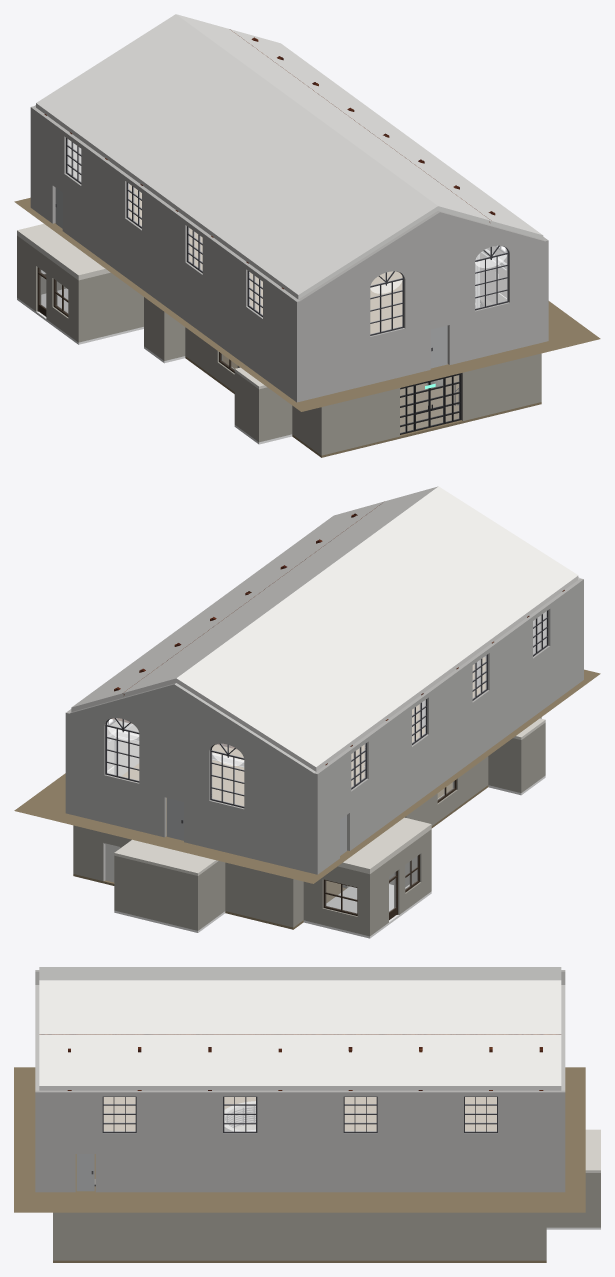
File: booth.glb
3 renders of one model, top to bottom at view 1: azimuth 30°, elevation 25°; view 2: azimuth 150°, elevation 25°; view 3: azimuth 270°, elevation 25°, orthographic.
Visible parts, largest first — view 1: ES3_A_Ceiling, ES3_A_GableS, ES3_A_WallSlabW, ES_A_Ceiling, ES_A_WallS_L, ES_A_WallS_R, ES_A_Ax_S, ES_A_Floor, ES_A_Ax_Ceil, ES_A_Gz_Glass, ES_A_N1_Back, ES3_C_GWS1_g (+11 smaller); view 2: ES3_A_Ceiling, ES3_A_GableN, ES3_A_WallSlabW, ES_A_Ceiling, ES_A_Vest_N, ES_A_WallN_1, ES_A_Ax_Ceil, ES_A_Vest_Ceil, ES_A_WallN_3, ES_A_N1_Back, ES3_C_GWN0_g, ES3_C_GWN1_g (+12 smaller); view 3: ES3_A_Ceiling, ES3_A_WallSlabE, ES_A_WallE_2, ES_A_Ceiling, ES_A_WallE_1, ES_A_Floor, ES_A_Vest_E, ES3_C_SWE0_g, ES3_C_SWE2_g, ES3_C_SWE3_g, ES3_C_SWE1_g, ES3_C_DoorE (+4 smaller).
Part boxes in pixels (x1,y1,x2,y2): ES3_A_Ceiling: (36,14,543,299); ES3_A_GableS: (298,210,545,401); ES3_A_WallSlabW: (30,106,300,402); ES_A_Ceiling: (14,185,600,411); ES_A_WallS_L: (318,388,399,455); ES_A_WallS_R: (461,353,541,420); ES_A_Ax_S: (75,272,143,342); ES_A_Floor: (185,355,541,457); ES_A_Ax_Ceil: (17,224,110,280); ES_A_Gz_Glass: (400,375,459,433); ES_A_N1_Back: (234,372,262,442); ES3_C_GWS1_g: (475,254,507,308); ES3_A_Ceiling: (71,486,578,771); ES3_A_GableN: (69,683,315,873); ES3_A_WallSlabW: (314,578,583,874); ES_A_Ceiling: (14,657,600,883); ES_A_Vest_N: (114,855,199,930); ES_A_WallN_1: (225,862,296,927); ES_A_Ax_Ceil: (338,817,431,874); ES_A_Vest_Ceil: (114,839,218,875); ES_A_WallN_3: (73,825,103,880); ES_A_N1_Back: (518,722,545,792); ES3_C_GWN0_g: (211,752,244,806); ES3_C_GWN1_g: (107,727,139,780); ES3_A_Ceiling: (39,967,561,1090); ES3_A_WallSlabE: (35,1090,565,1192); ES_A_WallE_2: (95,1212,540,1260); ES_A_Ceiling: (14,1067,585,1212); ES_A_WallE_1: (59,1212,95,1260); ES_A_Floor: (53,1186,546,1262); ES_A_Vest_E: (546,1173,596,1227); ES3_C_SWE0_g: (103,1097,135,1131); ES3_C_SWE2_g: (344,1097,376,1131); ES3_C_SWE3_g: (465,1097,496,1131); ES3_C_SWE1_g: (224,1097,255,1131); ES3_C_DoorE: (76,1154,94,1191).
Size of the model in its own units: 18.67 by 12.58 by 29.24.
30 materials, 1 textured.
